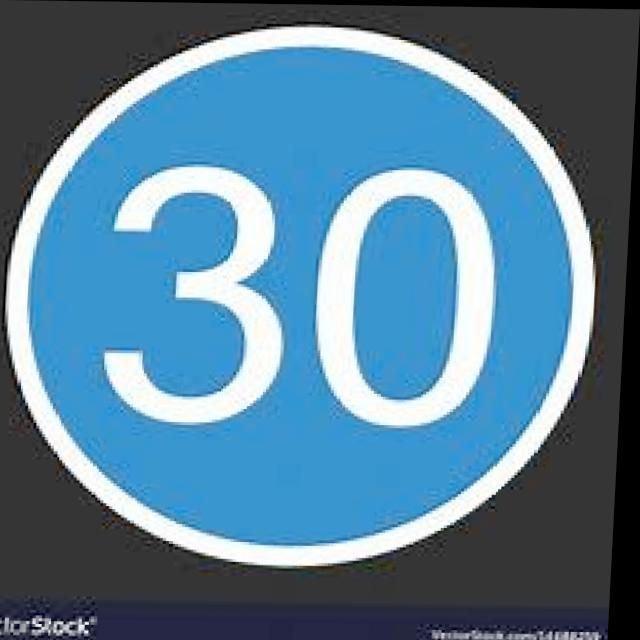COMPULSARY_MINIMUM_SPEED: (5, 16, 611, 581)
